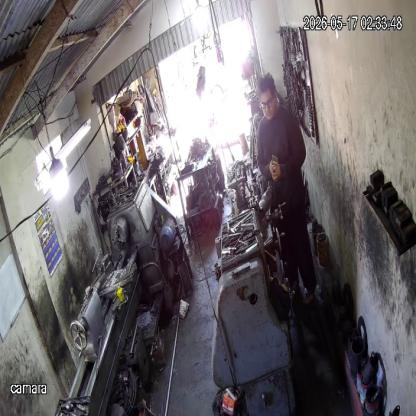lentes: (260, 96, 276, 109)
